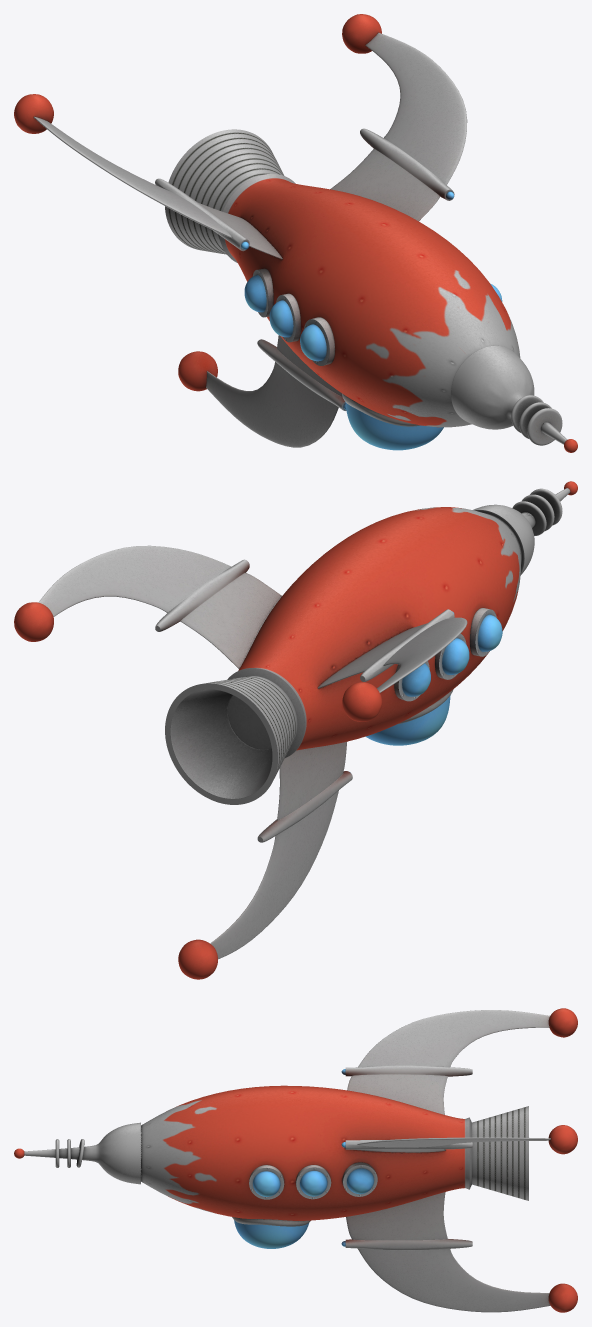
File: 10475_Rocket_Ship_v1_L3.obj
The picture shows the model from 3 angles, top to bottom: view 1: azimuth 30°, elevation 25°; view 2: azimuth 150°, elevation 25°; view 3: azimuth 270°, elevation 25°; orthographic projection. The views are drawn at different scales.
Parts seen in each view (by area): view 1: 10475_Rocket_Ship_v1_SG; view 2: 10475_Rocket_Ship_v1_SG; view 3: 10475_Rocket_Ship_v1_SG.
Part boxes in pixels (<box>): 10475_Rocket_Ship_v1_SG: <box>14,14,577,452</box>; 10475_Rocket_Ship_v1_SG: <box>14,481,577,979</box>; 10475_Rocket_Ship_v1_SG: <box>14,1008,577,1312</box>.
Bounding box in the file's own units: 225 × 199 × 416.
Materials: 2 (2 with a texture image).
